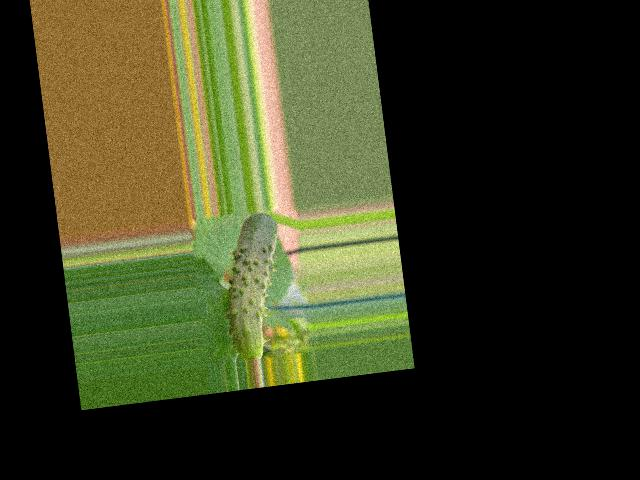cucumber: (213, 210, 293, 361)
